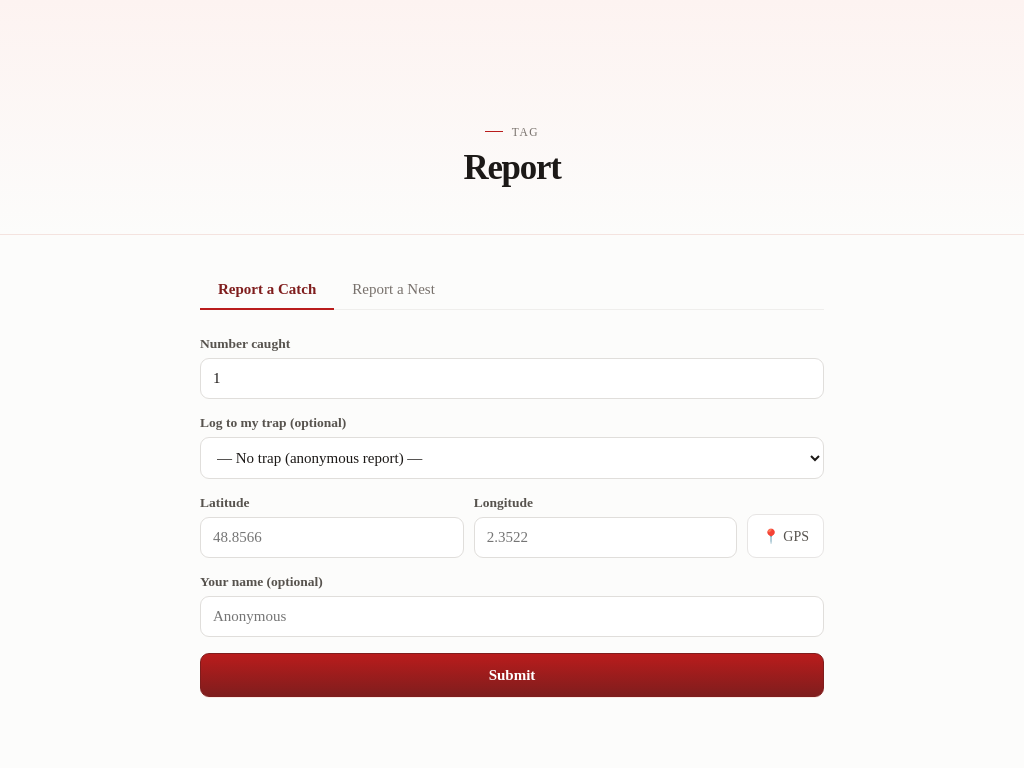
HornetReportPage › shows success after logging to a trap
Expected: the text "Log to my trap (optional)" is shown, [200,415,824,479]
Select "Garden Trap (TRAP0001)" in the dropdown: (512, 458) [200,437,824,479]
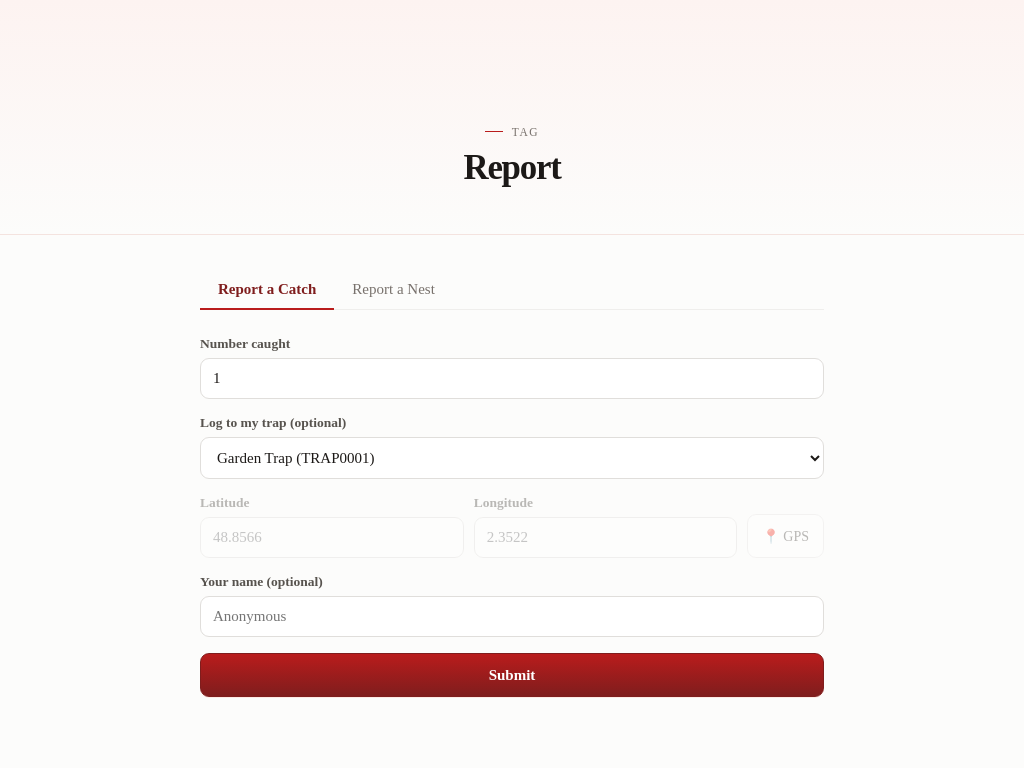
Click the button "Submit": (512, 675) [200,653,824,697]
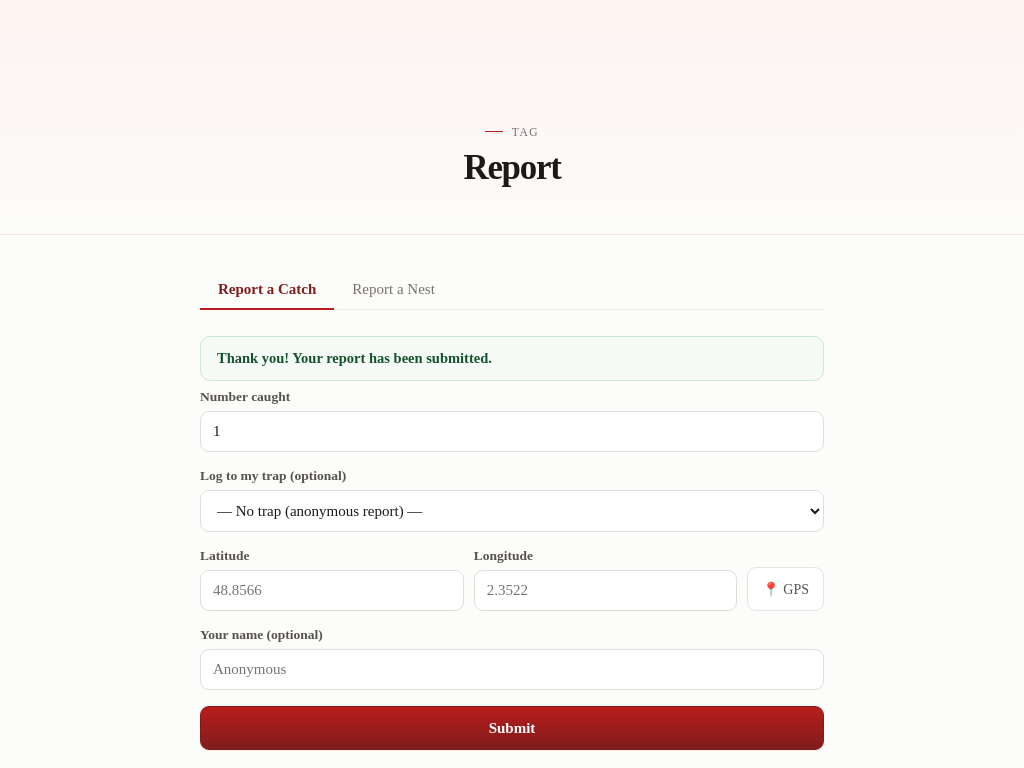
Expected: the text "Thank you! Your report has been submitted." is shown, [200,336,824,381]
